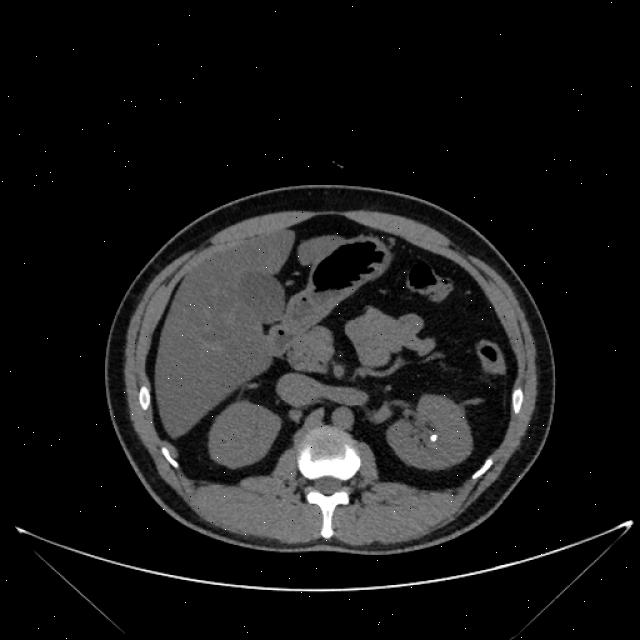kidneystone: (430, 434, 438, 442)
